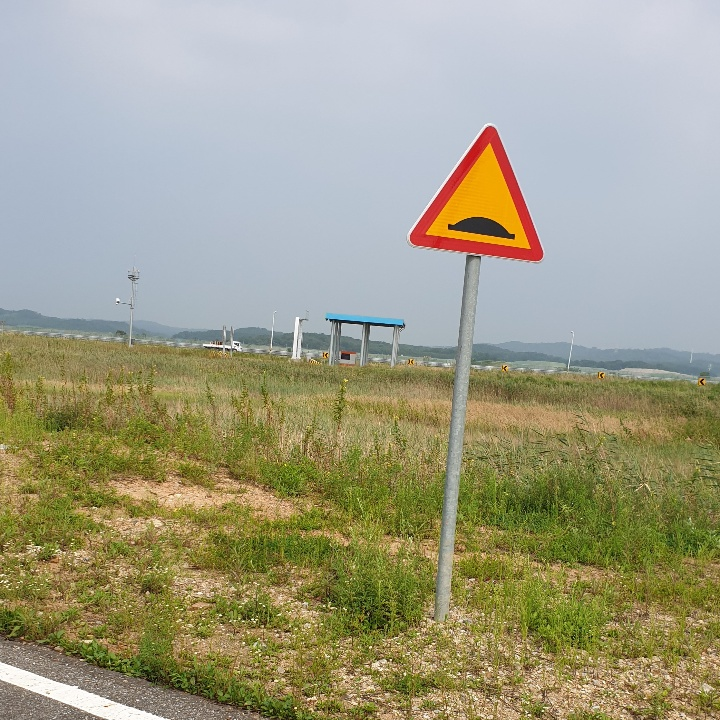bump: (409, 120, 541, 264)
